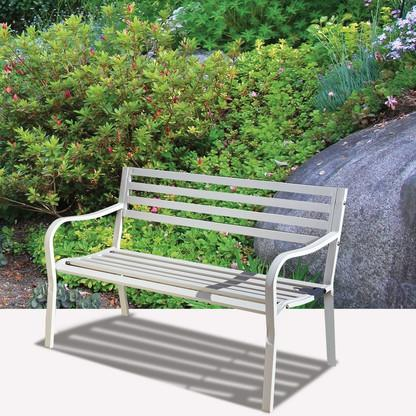obstacle: (39, 177, 362, 397)
